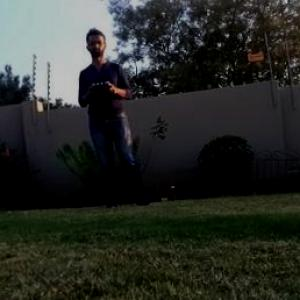follow: (76, 18, 157, 210)
